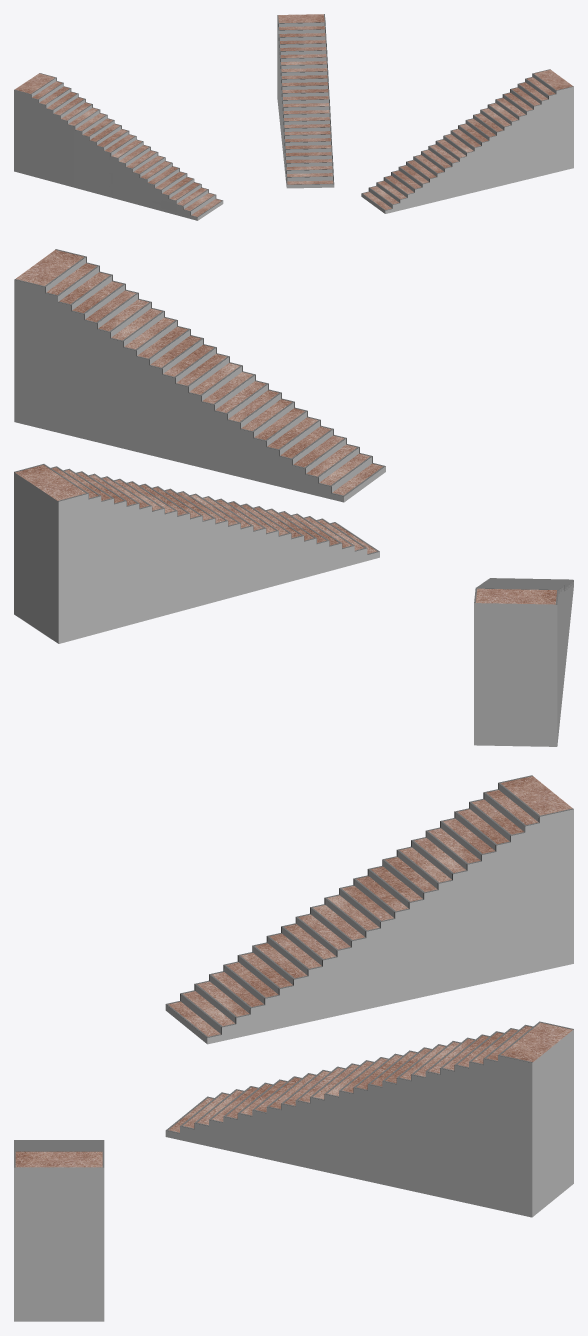
Rendered from Stairs.FBX.
3 renders of one model, top to bottom at view 1: azimuth 30°, elevation 25°; view 2: azimuth 150°, elevation 25°; view 3: azimuth 270°, elevation 25°, orthographic. The views are drawn at different scales.
Visible parts, largest first — view 1: Stair 1, Stair 3, Stair 2; view 2: Stair 1, Stair 2, Stair 3; view 3: Stair 3, Stair 2, Stair 1.
Part boxes in pixels (x1,y1,x2,y2): Stair 1: [361, 69, 573, 213]; Stair 3: [14, 73, 223, 220]; Stair 2: [277, 14, 334, 188]; Stair 1: [14, 249, 385, 502]; Stair 2: [14, 464, 379, 643]; Stair 3: [474, 578, 573, 746]; Stair 3: [165, 775, 573, 1044]; Stair 2: [165, 1021, 573, 1217]; Stair 1: [14, 1140, 104, 1321].
Bounding box in the file's own units: 1708 × 314 × 1031.
Materials: 3 (1 with a texture image).
